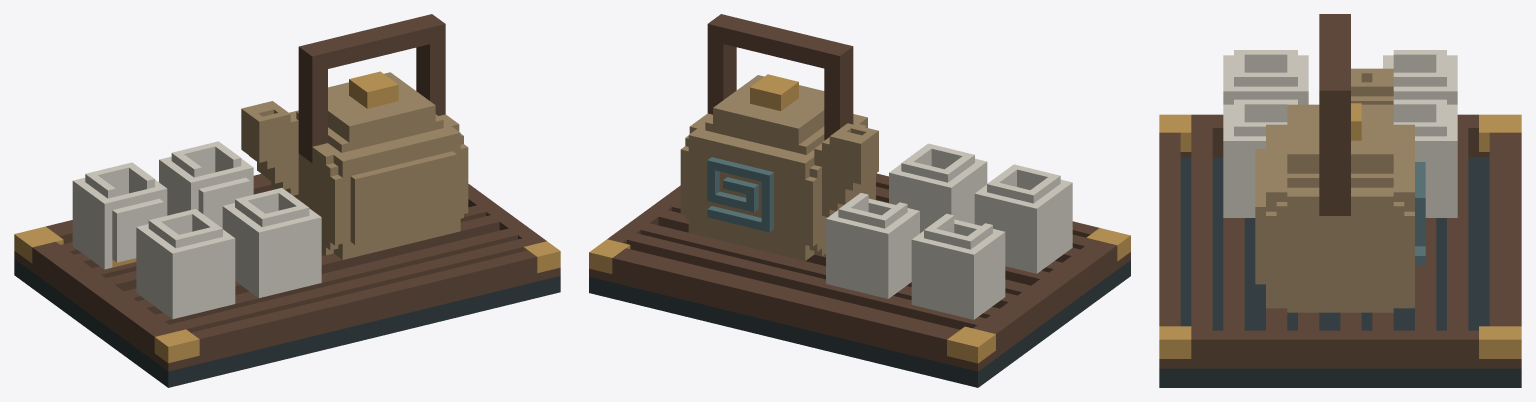
The model's file is LIFE-049.glb.
3 views of the same model, side by side, from view 1: azimuth 30°, elevation 25°; view 2: azimuth 150°, elevation 25°; view 3: azimuth 270°, elevation 25° (orthographic). The views are drawn at different scales.
Parts seen in each view (by area): view 1: 茶具壶及杯组合; view 2: 茶具壶及杯组合; view 3: 茶具壶及杯组合.
Part boxes in pixels (left/top/right/bottom): 茶具壶及杯组合: left=14, top=14, right=560, bottom=387; 茶具壶及杯组合: left=589, top=14, right=1130, bottom=387; 茶具壶及杯组合: left=1159, top=14, right=1521, bottom=387.
Size of the model in its own units: 0.5 by 0.28 by 0.34.
6 materials, 6 textured.
